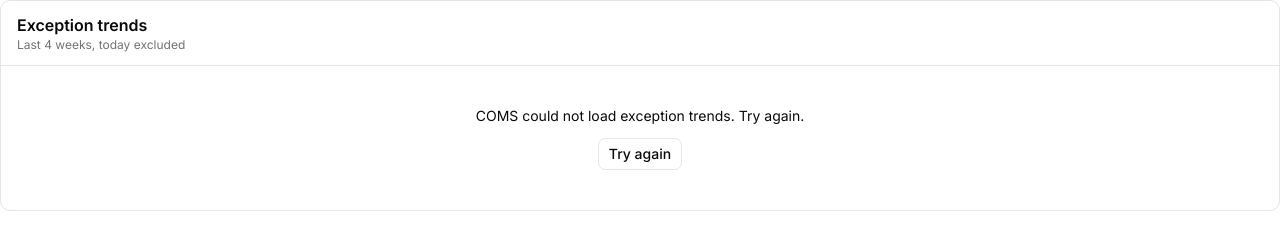
Test case: exception trends › explains a failed load and retries
Expected: the text "COMS could not load exception trends. Try again." is shown, [476,106,804,126]
Step 1. Click the button "Try again" → (640, 154), box [598,138,682,170]
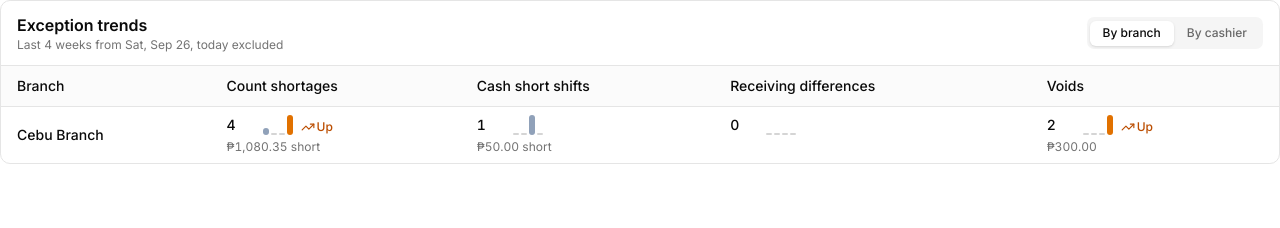
Result: the element named "Exceptions by branch table" is shown at [1,66,1279,162]
